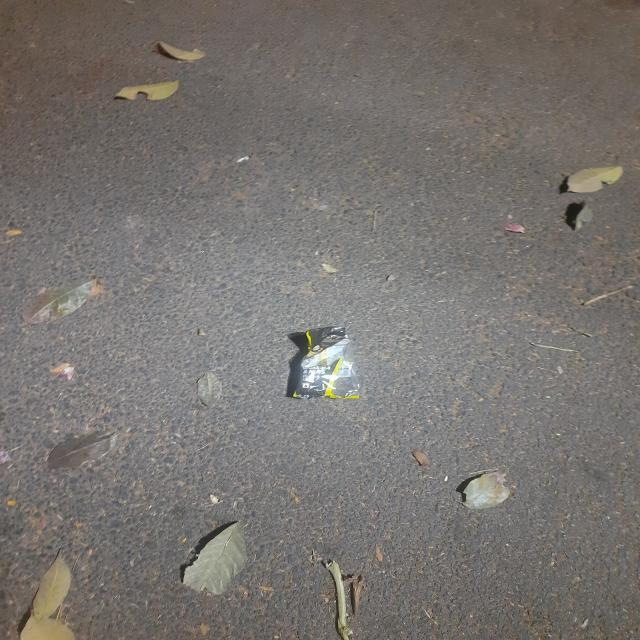Background: (209, 254, 448, 480)
Plastic_wraper: (290, 326, 358, 399)
